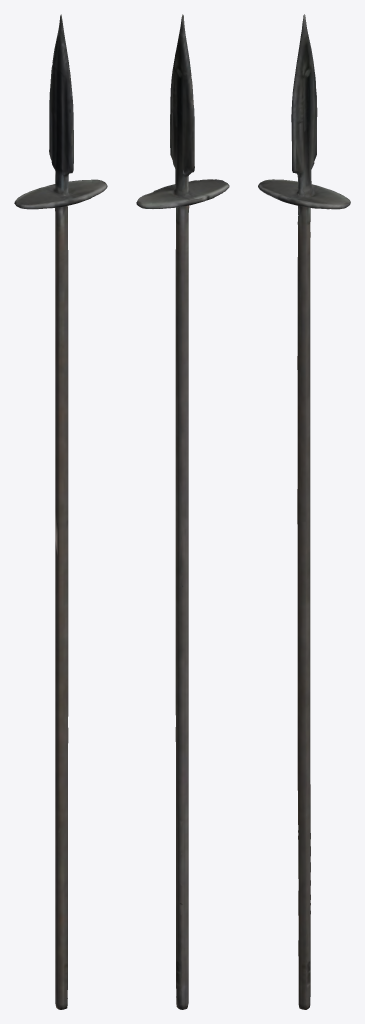
The model's file is 1600_spear.glb.
3 renders of one model, left to right at view 1: azimuth 30°, elevation 25°; view 2: azimuth 210°, elevation 25°; view 3: azimuth 330°, elevation 25°, orthographic.
Parts seen in each view (by area): view 1: Model; view 2: Model; view 3: Model.
Boxes of the visible parts, x1=… form: Model: x1=14, y1=14, x2=107, y2=1009; Model: x1=136, y1=14, x2=229, y2=1009; Model: x1=258, y1=14, x2=350, y2=1009.
Bounding box in the file's own units: 0.0946 × 1 × 0.0436.
1 material, 1 textured.
